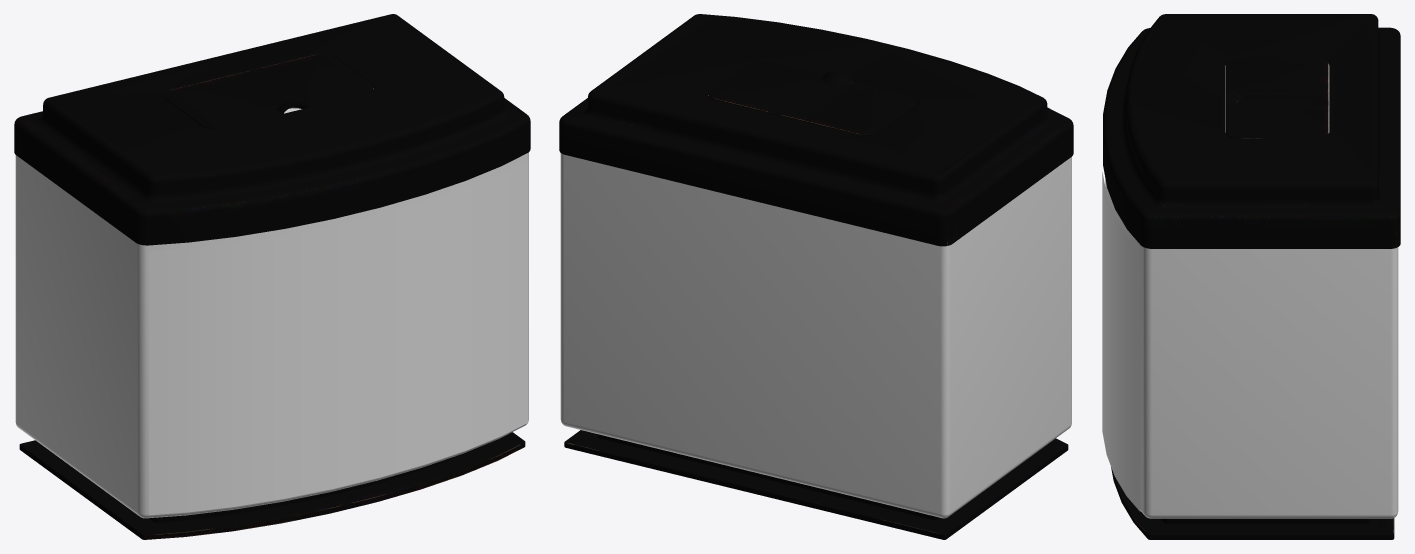
File: squaretank.glb
3 views of the same model, side by side, from view 1: azimuth 30°, elevation 25°; view 2: azimuth 150°, elevation 25°; view 3: azimuth 270°, elevation 25° (orthographic).
Parts seen in each view (by area): view 1: game, body, glass; view 2: glass, body; view 3: body, glass, game.
Part boxes in pixels (x1,y1,x2,y2): game: (149,159,528,515); body: (14,14,530,539); glass: (15,152,528,518); glass: (560,153,1071,518); body: (559,14,1073,539); body: (1103,14,1400,539); glass: (1105,179,1398,518); game: (1102,172,1140,511).
Bounding box in the file's own units: 0.5545 × 0.4879 × 0.3683.
Materials: 1 (1 with a texture image).
